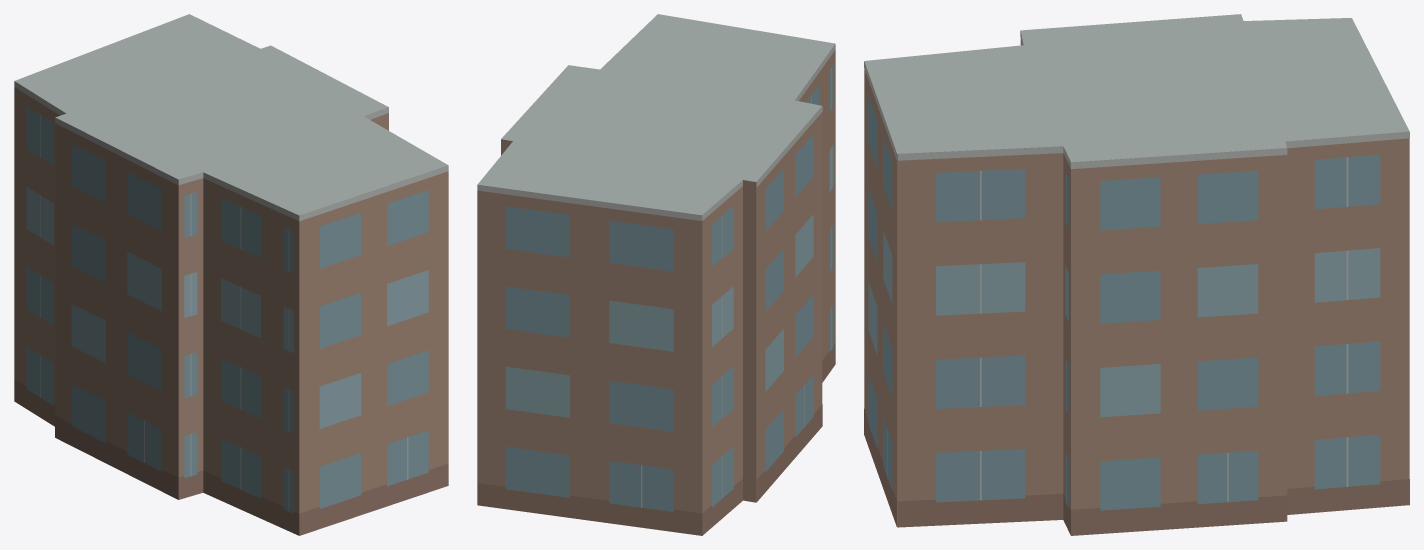
Rendered from survey-upis-32631138.glb.
3 renders of one model, left to right at view 1: azimuth 30°, elevation 25°; view 2: azimuth 150°, elevation 25°; view 3: azimuth 270°, elevation 25°, orthographic. The views are drawn at different scales.
Visible parts, largest first — view 1: survey-upis-32631138.tmp; view 2: survey-upis-32631138.tmp; view 3: survey-upis-32631138.tmp.
Boxes of the visible parts, x1,y1,x2,y2 form: survey-upis-32631138.tmp: [14, 14, 448, 535]; survey-upis-32631138.tmp: [477, 14, 835, 535]; survey-upis-32631138.tmp: [864, 14, 1409, 535].
Size of the model in its own units: 11.43 by 13.4 by 17.75.
